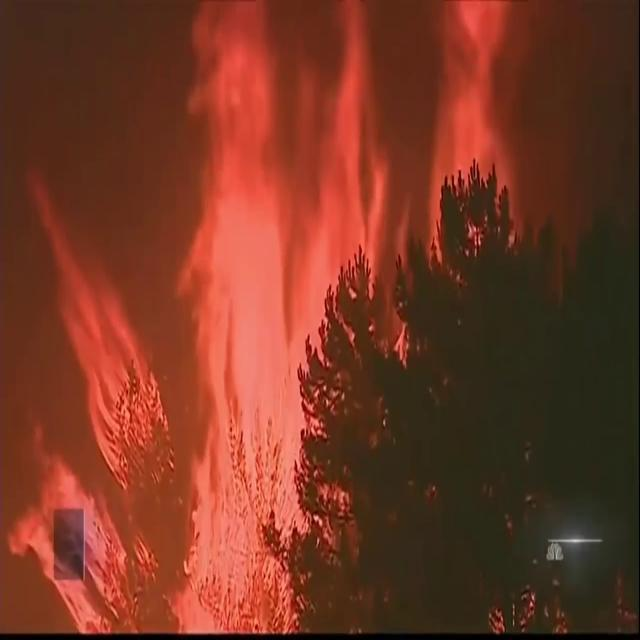Fire: (165, 2, 388, 616), (0, 162, 178, 630), (416, 0, 518, 255)
Smoke: (166, 4, 390, 616), (500, 0, 638, 390)
